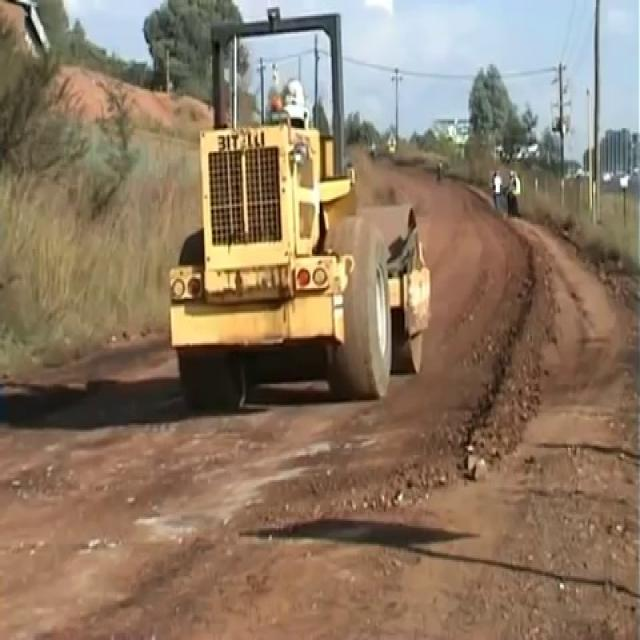buldozerpayloadergrader: (172, 12, 429, 400)
